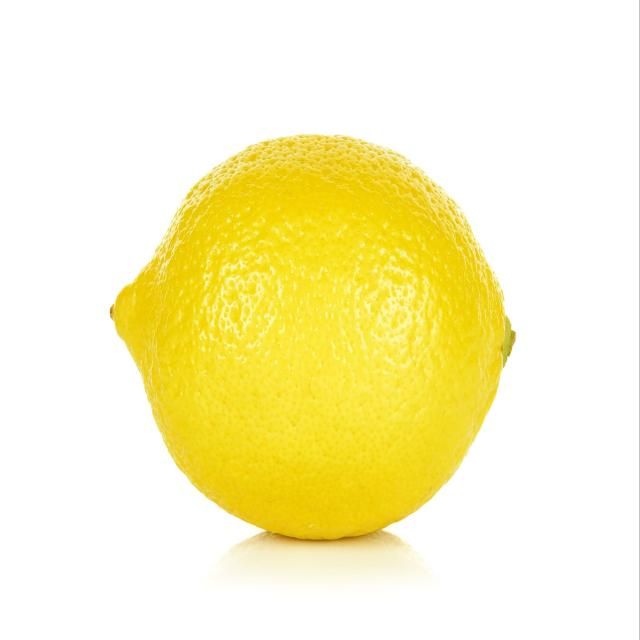lemon: (98, 129, 522, 550)
